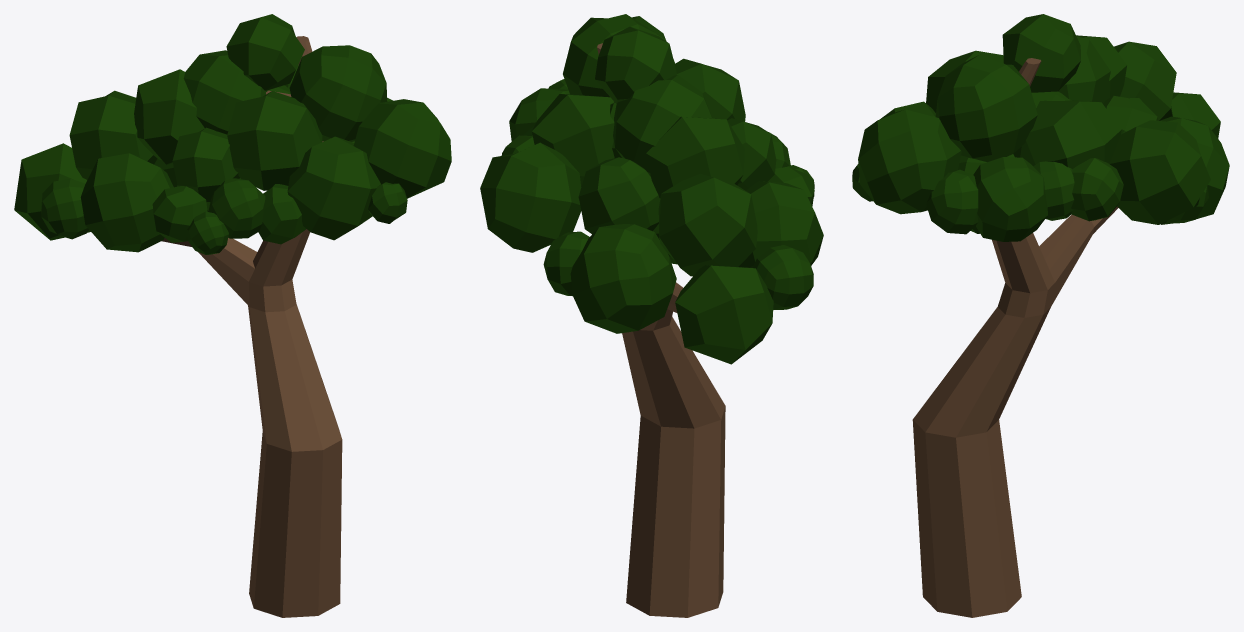
Rendered from M_tree2.fbx.
3 views of the same model, side by side, from view 1: azimuth 30°, elevation 25°; view 2: azimuth 150°, elevation 25°; view 3: azimuth 270°, elevation 25° (orthographic). The views are drawn at different scales.
Parts seen in each view (by area): view 1: trunk2; view 2: trunk2; view 3: trunk2.
Boxes of the visible parts, bbox=[...] form: trunk2: bbox=[14, 14, 451, 617]; trunk2: bbox=[480, 14, 823, 617]; trunk2: bbox=[852, 14, 1229, 617].
Bounding box in the file's own units: 29.66 × 48.76 × 28.61.
